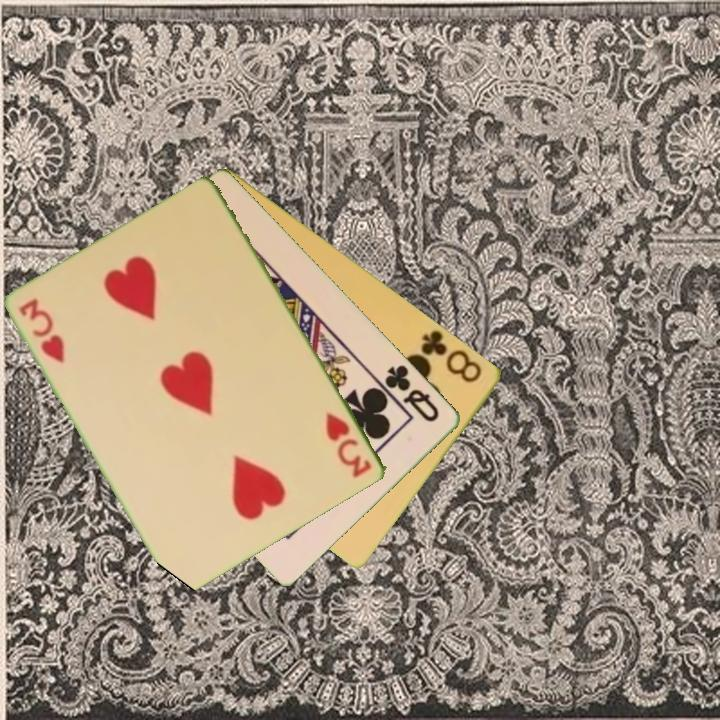3h: (322, 409, 376, 481), (16, 295, 69, 366)
8c: (417, 326, 486, 386)
Qc: (382, 360, 443, 426)
